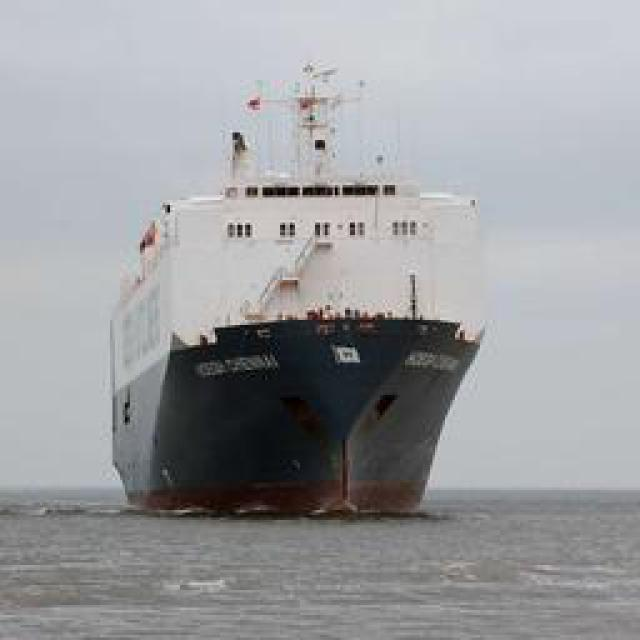Ship: (111, 133, 499, 531)
